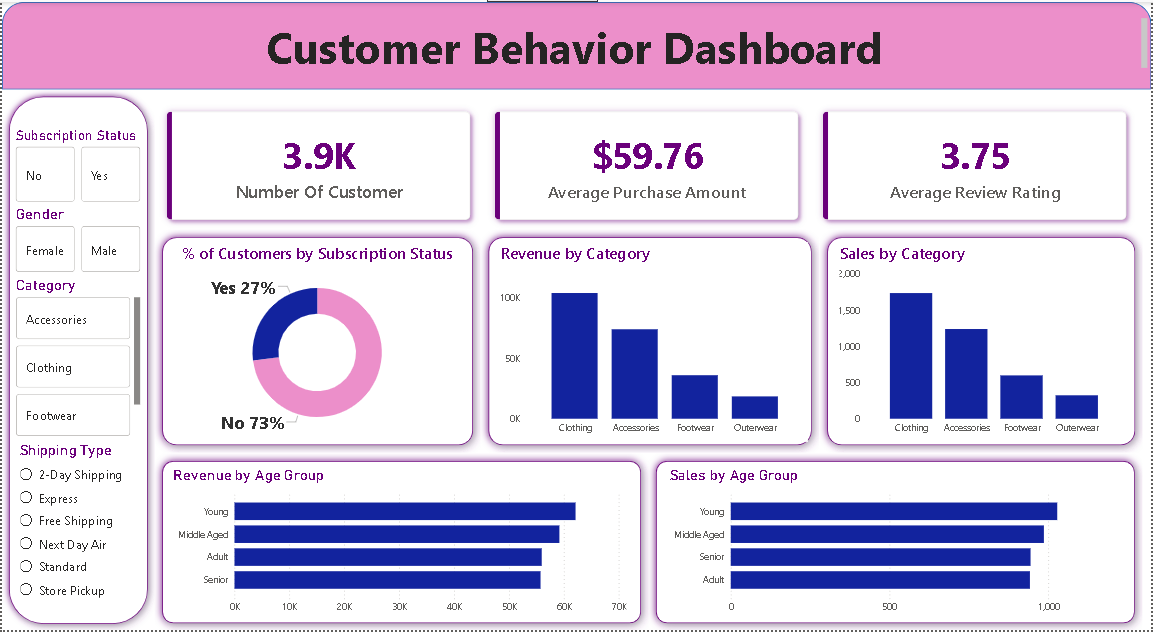

This screenshot's page, from the dashboard's own definition file:
{"tool":"powerbi","page":{"name":"Page 1","canvas":[1500,820],"ordinal":0},"visuals":[{"type":"cardVisual","fields":{"Data":["public customer.Number_Of_Customer","public customer.Average_Purchase_Amount","public customer.Average_Review_Rating"]},"box":[186.5,114.1,1313,199.2],"z":0},{"type":"shape","box":[0,0,1499.5,114.1],"z":1000},{"type":"textbox","box":[0,16.3,1499.5,79.7],"z":2000},{"type":"shape","box":[1066.7,297,422,291.6],"z":3000},{"type":"shape","box":[624.8,297,441.9,291.6],"z":4000},{"type":"shape","box":[199.2,297,425.6,291.6],"z":5000},{"type":"donutChart","title":"% of Customers by Subscription Status","fields":{"Category":["public customer.subscription_status"],"Y":["CountNonNull(public customer.customer_id)"]},"box":[219.1,313.3,385.7,260.8],"z":6000},{"type":"clusteredColumnChart","title":"Revenue by Category","fields":{"Y":["Sum(public customer.purchase_amount)"],"Category":["public customer.category"]},"box":[646.5,313.3,405.7,260.8],"z":6001},{"type":"clusteredColumnChart","title":"Sales by Category","fields":{"Category":["public customer.category"],"Y":["CountNonNull(public customer.customer_id)"]},"box":[1088.4,313.3,378.5,260.8],"z":6002},{"type":"shape","box":[0,114.1,199.2,706.3],"z":6003},{"type":"advancedSlicerVisual","title":"Subscription Status","fields":{"Values":["public customer.subscription_status"]},"box":[12.7,163,172,103.2],"z":6004},{"type":"advancedSlicerVisual","title":"Gender","fields":{"Values":["public customer.gender"]},"box":[12.7,266.2,172,92.4],"z":6005},{"type":"advancedSlicerVisual","title":"Category","fields":{"Values":["public customer.category"]},"box":[12.7,358.6,172,215.5],"z":6006},{"type":"listSlicer","title":"Shipping Type","fields":{"Values":["public customer.shipping_type"]},"box":[18.1,574.1,163,215.5],"z":6007},{"type":"shape","box":[199.2,588.6,644.7,231.8],"z":6008},{"type":"shape","box":[843.9,588.6,644.7,231.8],"z":6009},{"type":"clusteredBarChart","title":"Revenue by Age Group","fields":{"Y":["Sum(public customer.purchase_amount)"],"Category":["public customer.age_group"]},"box":[219.1,606.7,601.2,201],"z":6010},{"type":"clusteredBarChart","title":"Sales by Age Group","fields":{"Category":["public customer.age_group"],"Y":["CountNonNull(public customer.customer_id)"]},"box":[865.6,606.7,601.2,201],"z":6011}]}

Visuals, with their boxes in screenshot pixels (x1, y1, x2, y2), scaled from the page's 1500x820 canvas onto the 1153x632 screenshot:
cardVisual - public customer.Number_Of_Customer x public customer.Average_Purchase_Amount: bbox(143, 88, 1152, 241)
shape: bbox(0, 0, 1152, 88)
textbox: bbox(0, 13, 1152, 74)
shape: bbox(820, 229, 1144, 454)
shape: bbox(480, 229, 820, 454)
shape: bbox(153, 229, 480, 454)
"% of Customers by Subscription Status" donutChart: bbox(168, 241, 465, 442)
"Revenue by Category" clusteredColumnChart: bbox(497, 241, 809, 442)
"Sales by Category" clusteredColumnChart: bbox(837, 241, 1128, 442)
shape: bbox(0, 88, 153, 631)
"Subscription Status" advancedSlicerVisual: bbox(10, 126, 142, 205)
"Gender" advancedSlicerVisual: bbox(10, 205, 142, 276)
"Category" advancedSlicerVisual: bbox(10, 276, 142, 442)
"Shipping Type" listSlicer: bbox(14, 442, 139, 609)
shape: bbox(153, 454, 649, 631)
shape: bbox(649, 454, 1144, 631)
"Revenue by Age Group" clusteredBarChart: bbox(168, 468, 631, 623)
"Sales by Age Group" clusteredBarChart: bbox(665, 468, 1127, 623)
